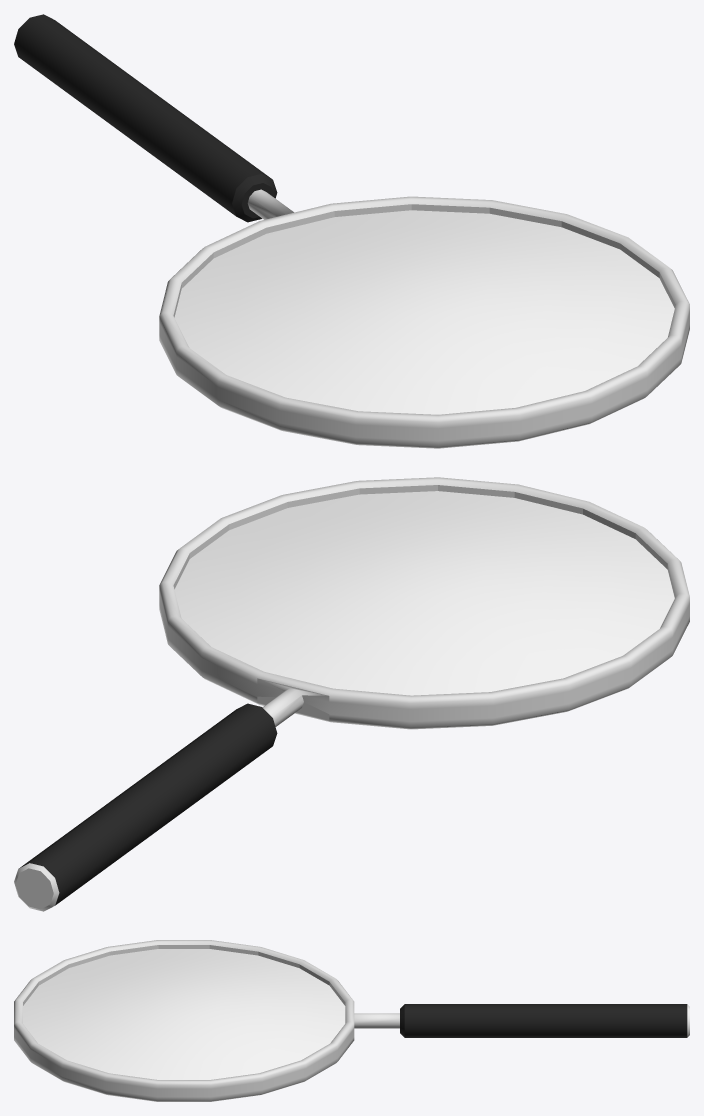
File: MagnifyingGlassUV.fbx
3 views of the same model, one above another, from view 1: azimuth 30°, elevation 25°; view 2: azimuth 150°, elevation 25°; view 3: azimuth 270°, elevation 25° (orthographic). The views are drawn at different scales.
Visible parts, largest first — view 1: detective_magnifyingglass:Mesh; view 2: detective_magnifyingglass:Mesh; view 3: detective_magnifyingglass:Mesh.
Boxes of the visible parts, <box> form: detective_magnifyingglass:Mesh: <box>14,14,689,448</box>; detective_magnifyingglass:Mesh: <box>14,477,689,911</box>; detective_magnifyingglass:Mesh: <box>14,940,689,1101</box>.
Bounding box in the file's own units: 2.82 × 0.4214 × 5.6.
